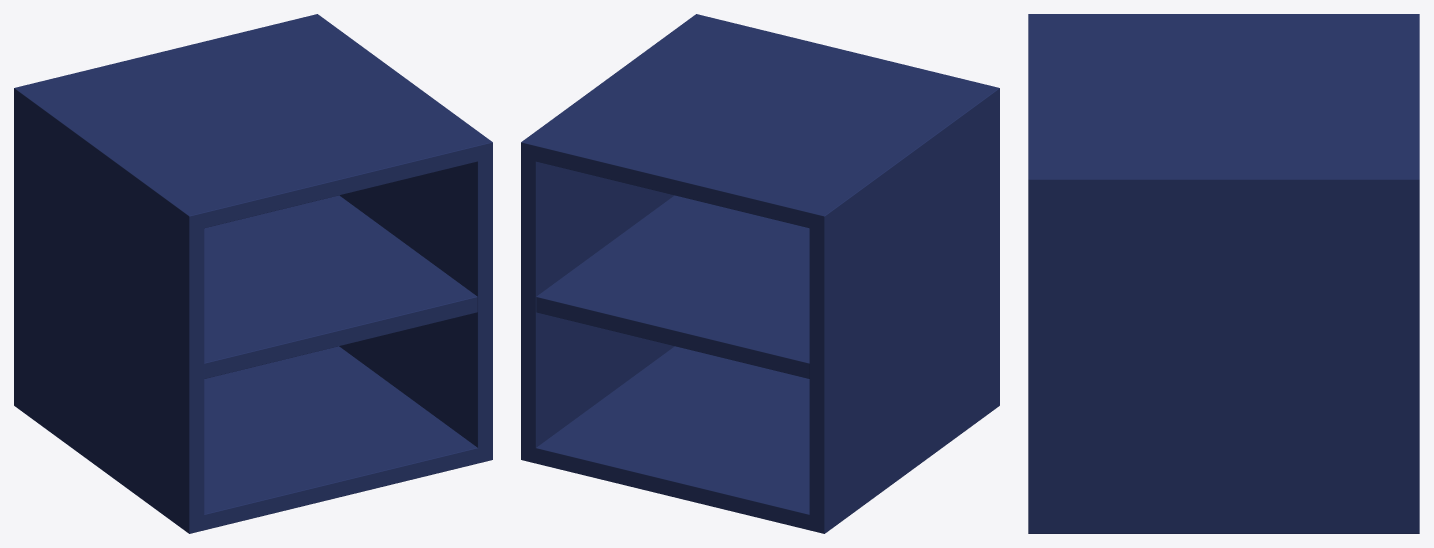
File: MOD_1X1_S_O_AF.glb
The picture shows the model from 3 angles, left to right: view 1: azimuth 30°, elevation 25°; view 2: azimuth 150°, elevation 25°; view 3: azimuth 270°, elevation 25°; orthographic projection. The views are drawn at different scales.
Size of the model in its own units: 360 by 360 by 360.
